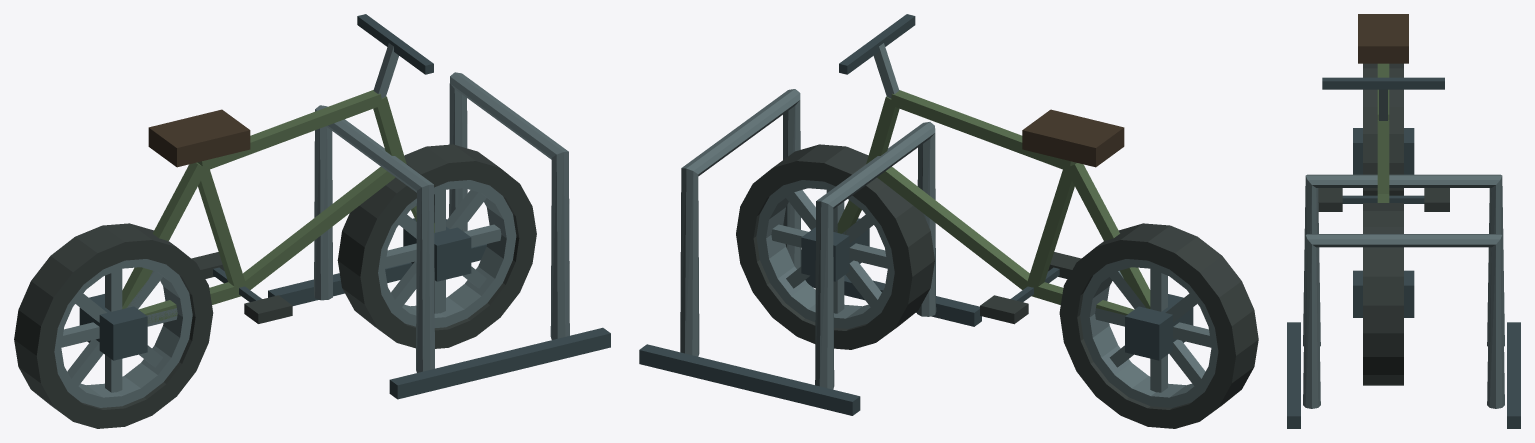
The model's file is Prop_Daily_BicycleStand_001.glb.
3 renders of one model, left to right at view 1: azimuth 30°, elevation 25°; view 2: azimuth 150°, elevation 25°; view 3: azimuth 270°, elevation 25°, orthographic. The views are drawn at different scales.
Parts seen in each view (by area): view 1: Prop_Daily_BicycleStand_001; view 2: Prop_Daily_BicycleStand_001; view 3: Prop_Daily_BicycleStand_001.
Part boxes in pixels (box(x1,y1,x2,y2)): Prop_Daily_BicycleStand_001: box(14, 14, 610, 428); Prop_Daily_BicycleStand_001: box(639, 14, 1258, 428); Prop_Daily_BicycleStand_001: box(1287, 14, 1520, 428).
Size of the model in its own units: 2.17 by 1.21 by 0.915.
